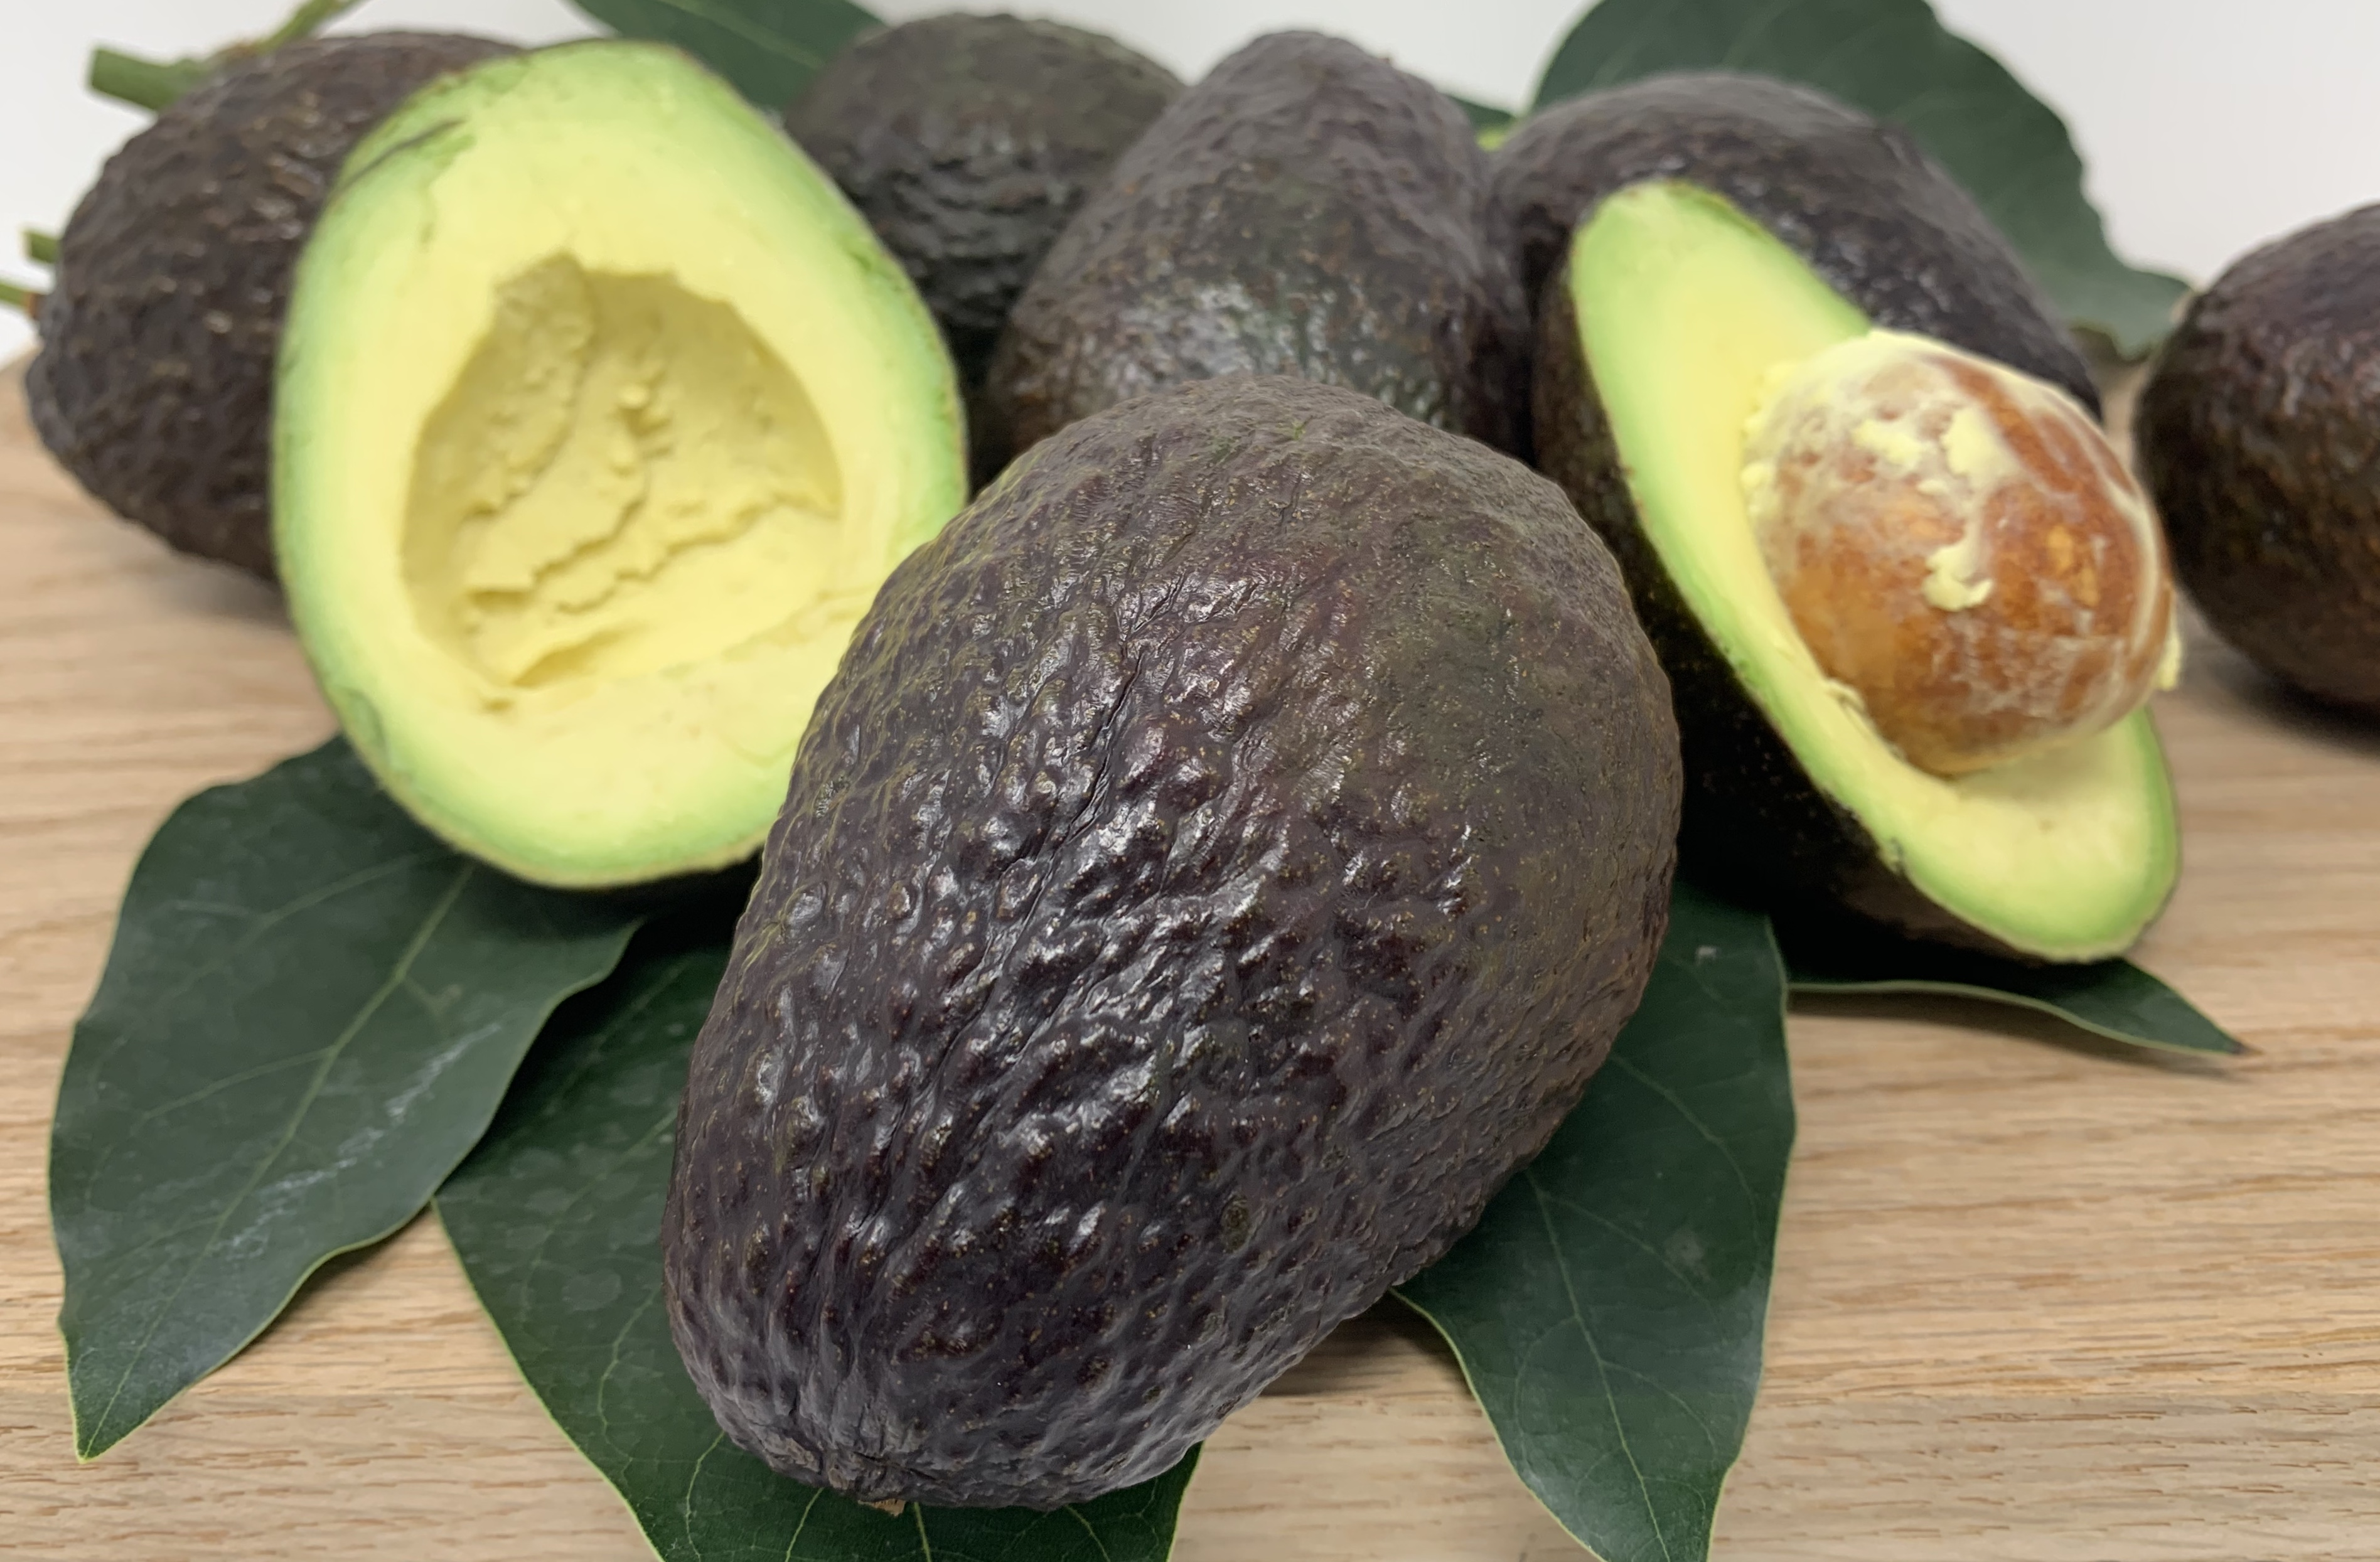fit_avocado: (609, 373, 1759, 1503), (950, 2, 1534, 450)
